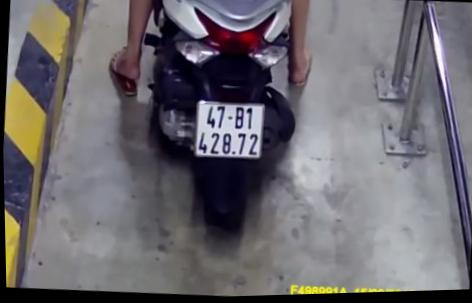LP: (191, 96, 265, 165)
